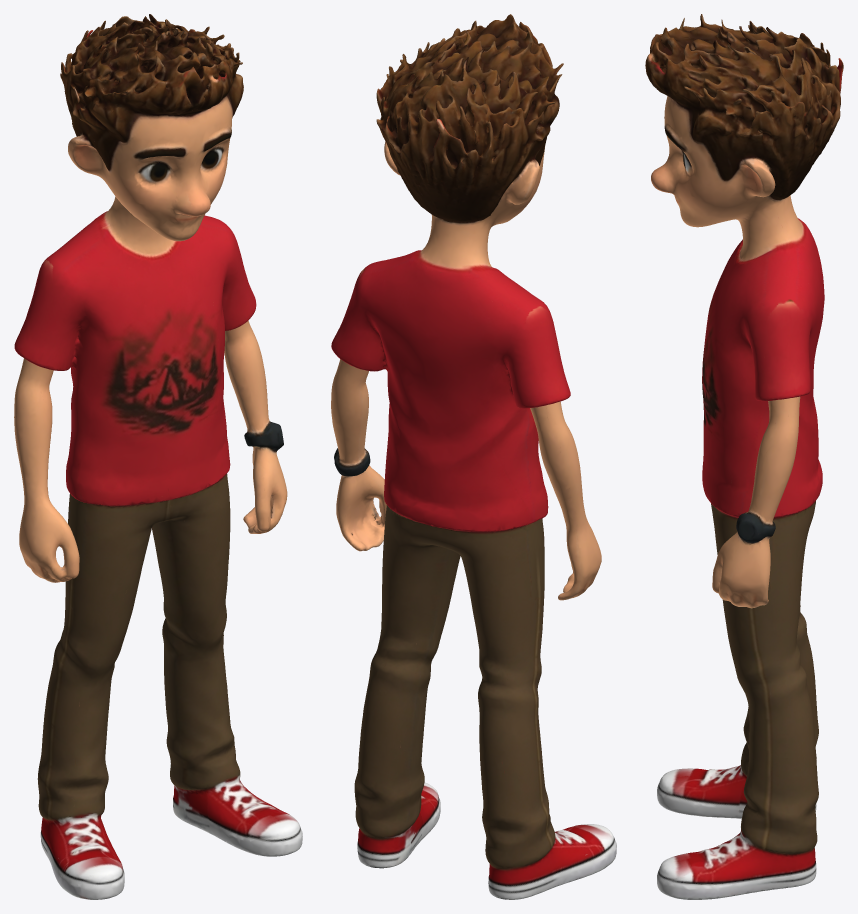
The model's file is Meshy_AI_Red_Shirt_Boy_20261126_texture.glb.
3 views of the same model, side by side, from view 1: azimuth 30°, elevation 25°; view 2: azimuth 150°, elevation 25°; view 3: azimuth 270°, elevation 25° (orthographic).
Bounding box in the file's own units: 0.6232 × 1.9 × 0.4156.
1 material, 1 textured.
